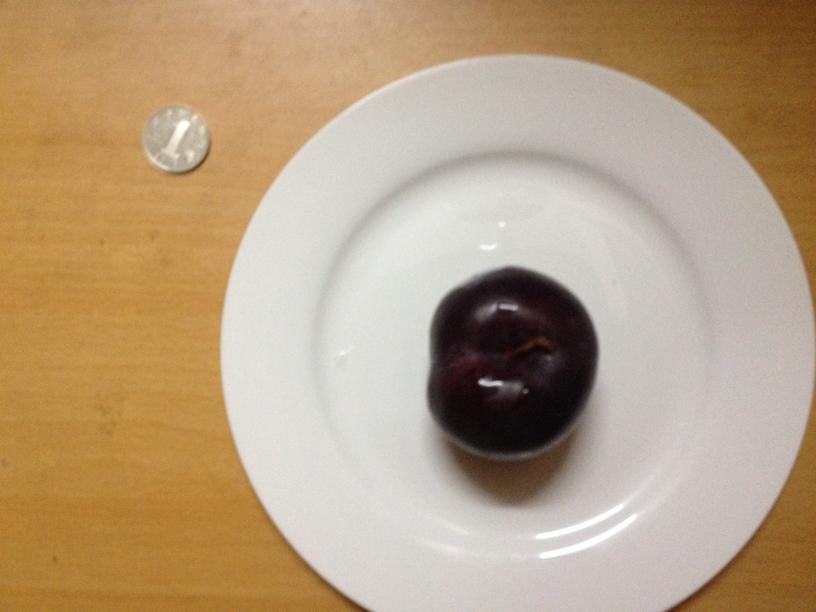coin: (137, 109, 210, 172)
plum: (422, 263, 602, 461)
